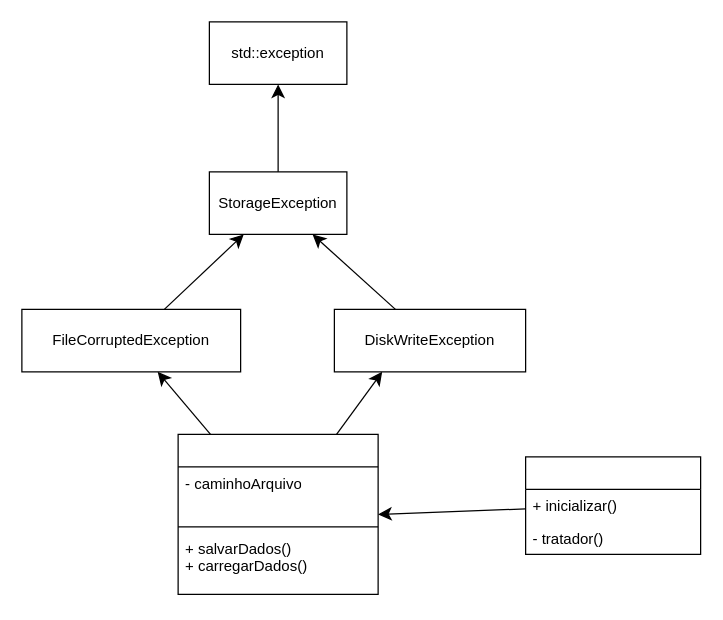
Image size: 723x620. Some labels were removed from this diagram. Each missing label, with the box of its shape:
LedgerPersistence: (177, 433, 378, 594)
SignalHandler: (524, 456, 701, 554)
